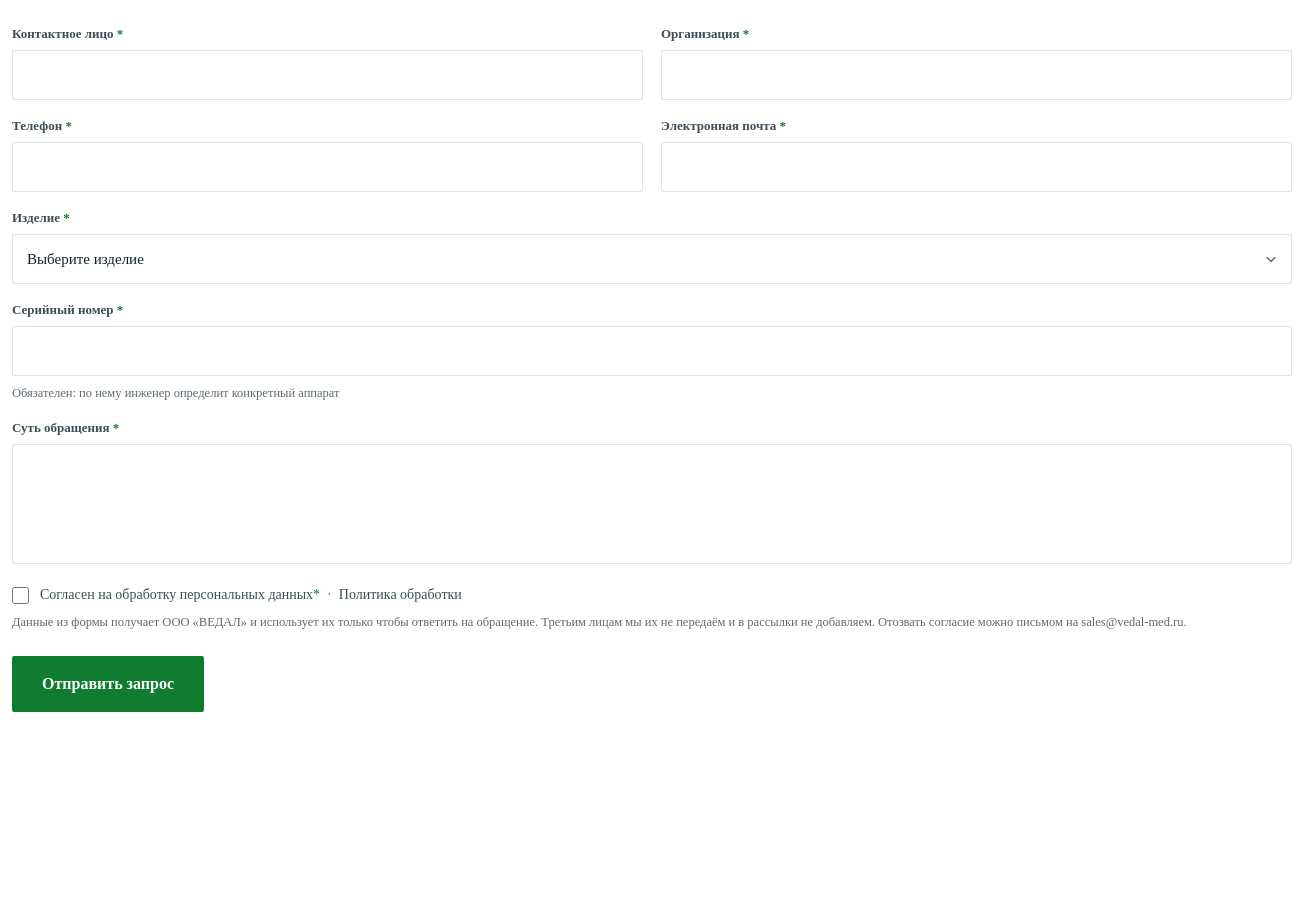
Test case: изделие в сервисном обращении › без выбранного изделия обращение не отправляется
Type "Ольга Кузнецова" into the field labelled "Контактное лицо *" at (328, 75), box [12,50,643,100]
Type "Роддом №2" into the field labelled "Организация *" at (976, 75), box [661,50,1292,100]
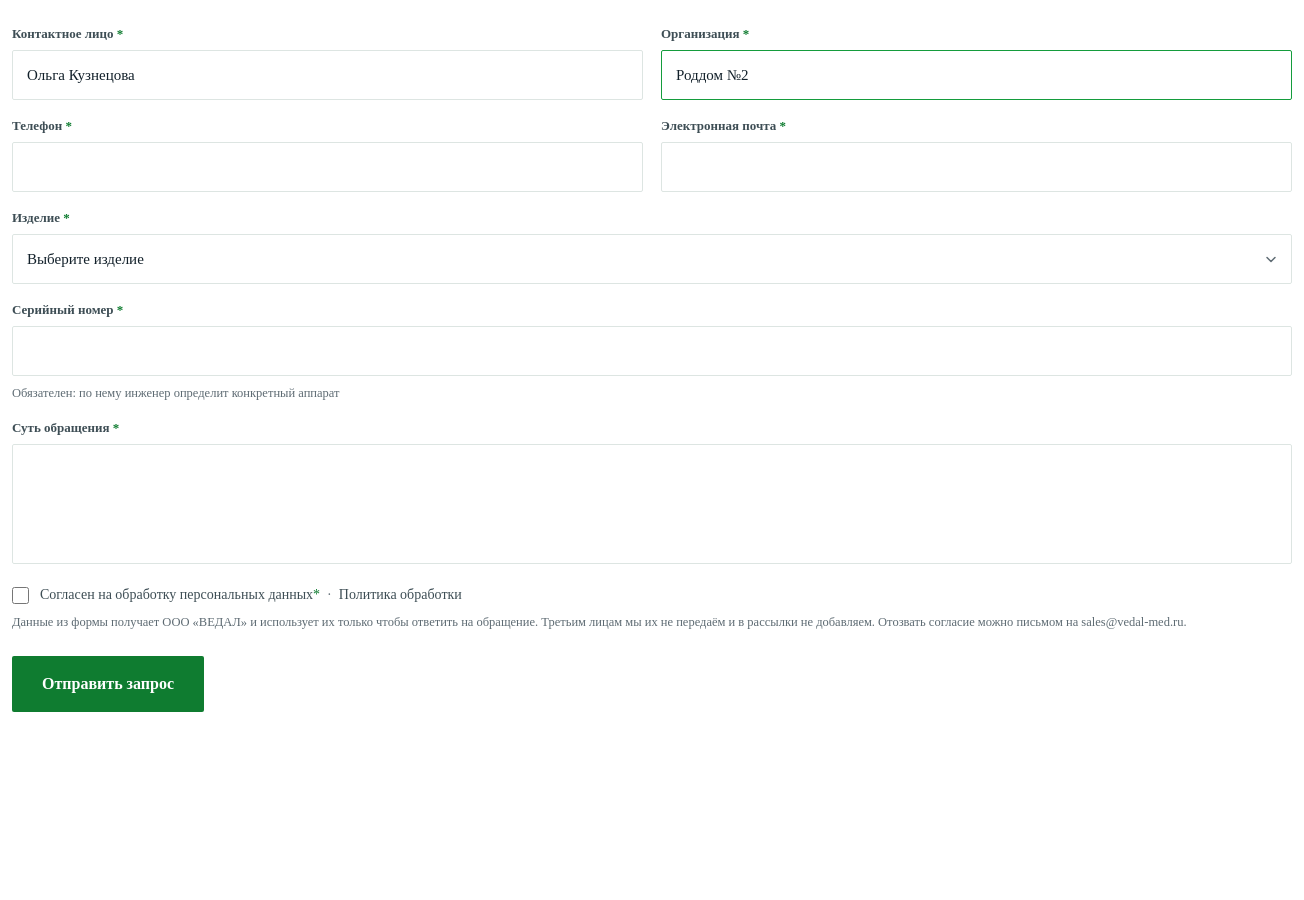
Type "+7 343 200 10 10" into the field labelled "Телефон *" at (328, 167), box [12,142,643,192]
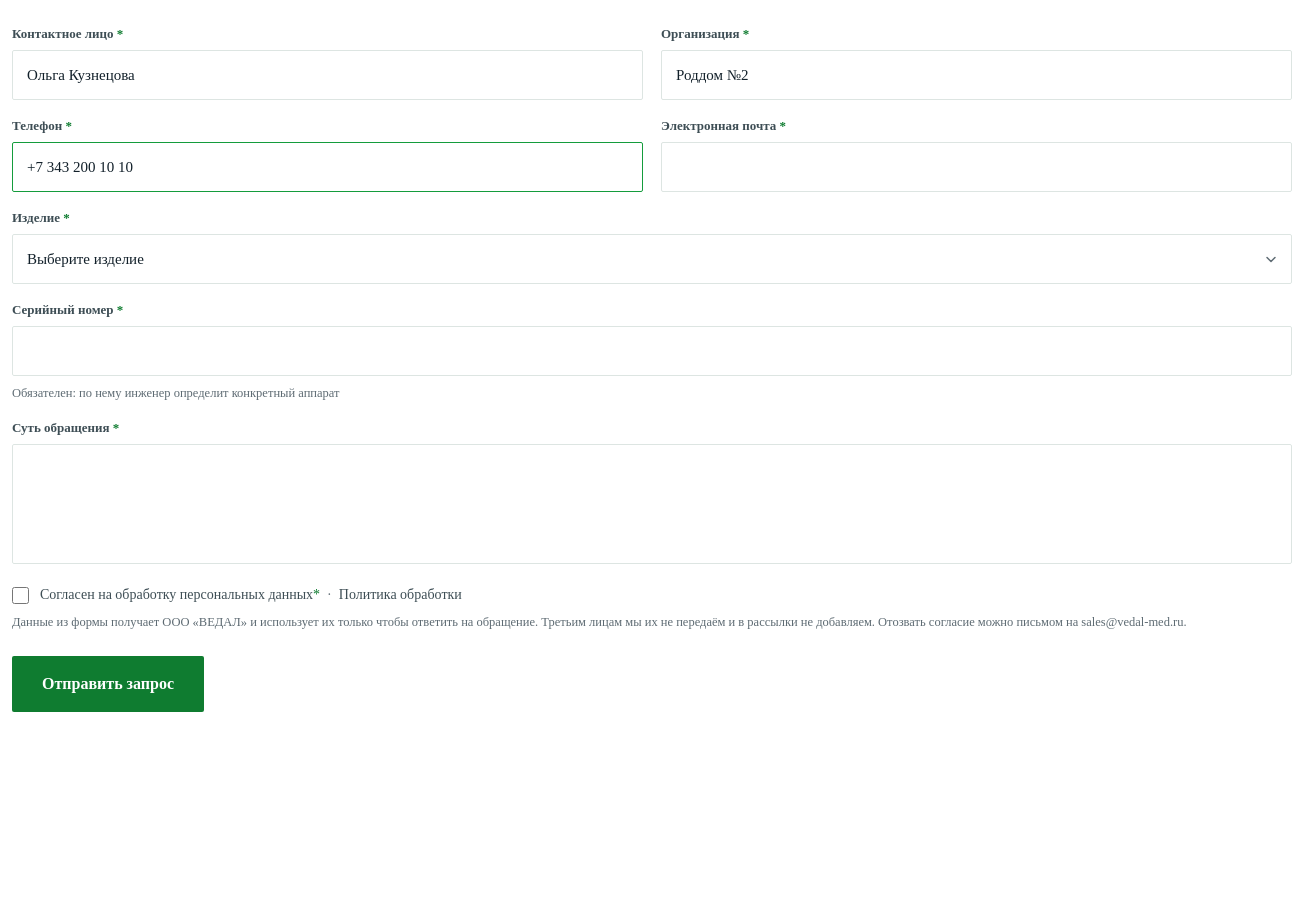
Type "olga@rd2.ru" into the field labelled "Электронная почта *" at (976, 167), box [661,142,1292,192]
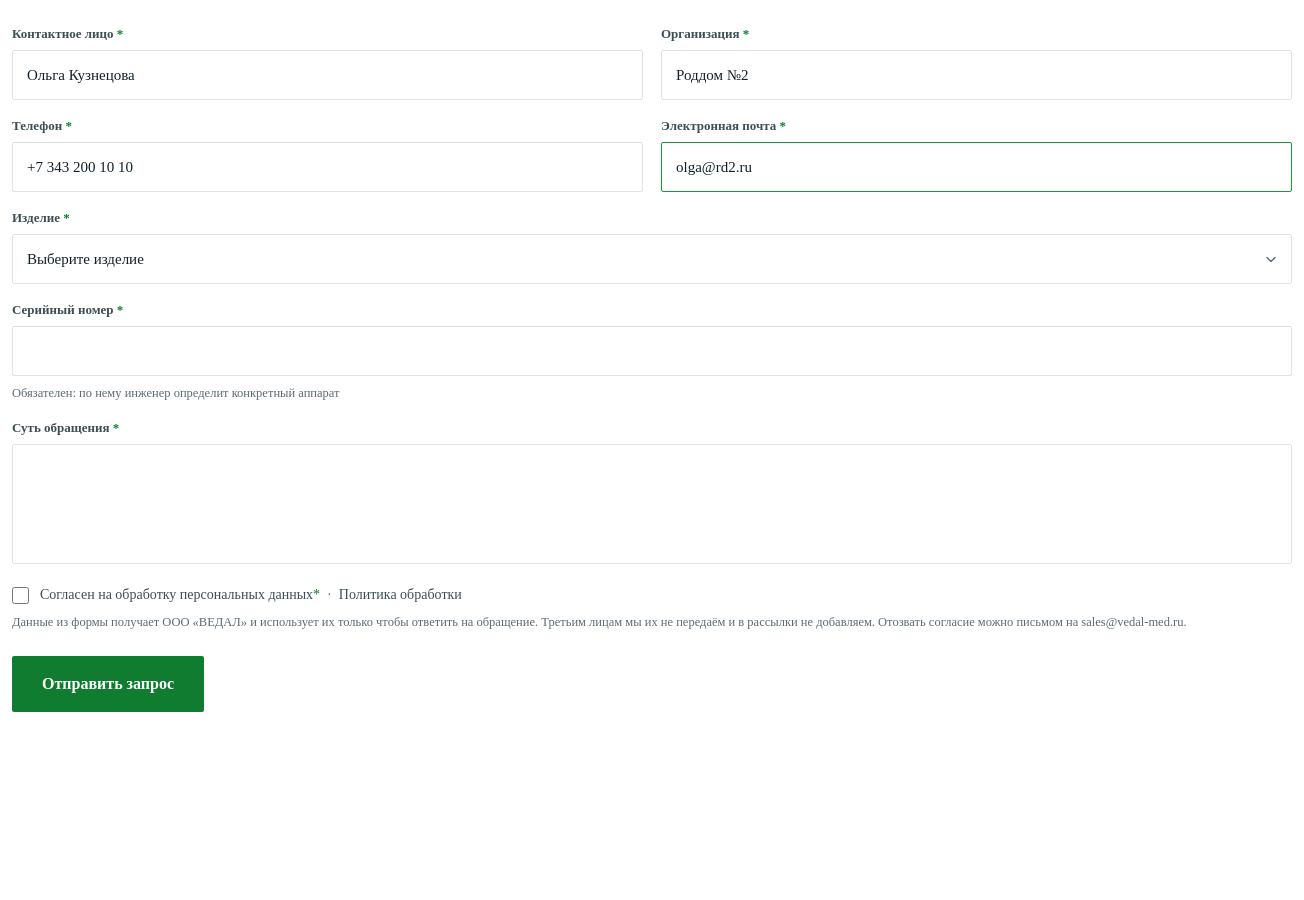
Type "Аппарат не выходит на режим после включения." into the text box labelled "Суть обращения *" at (652, 504), box [12,444,1292,564]
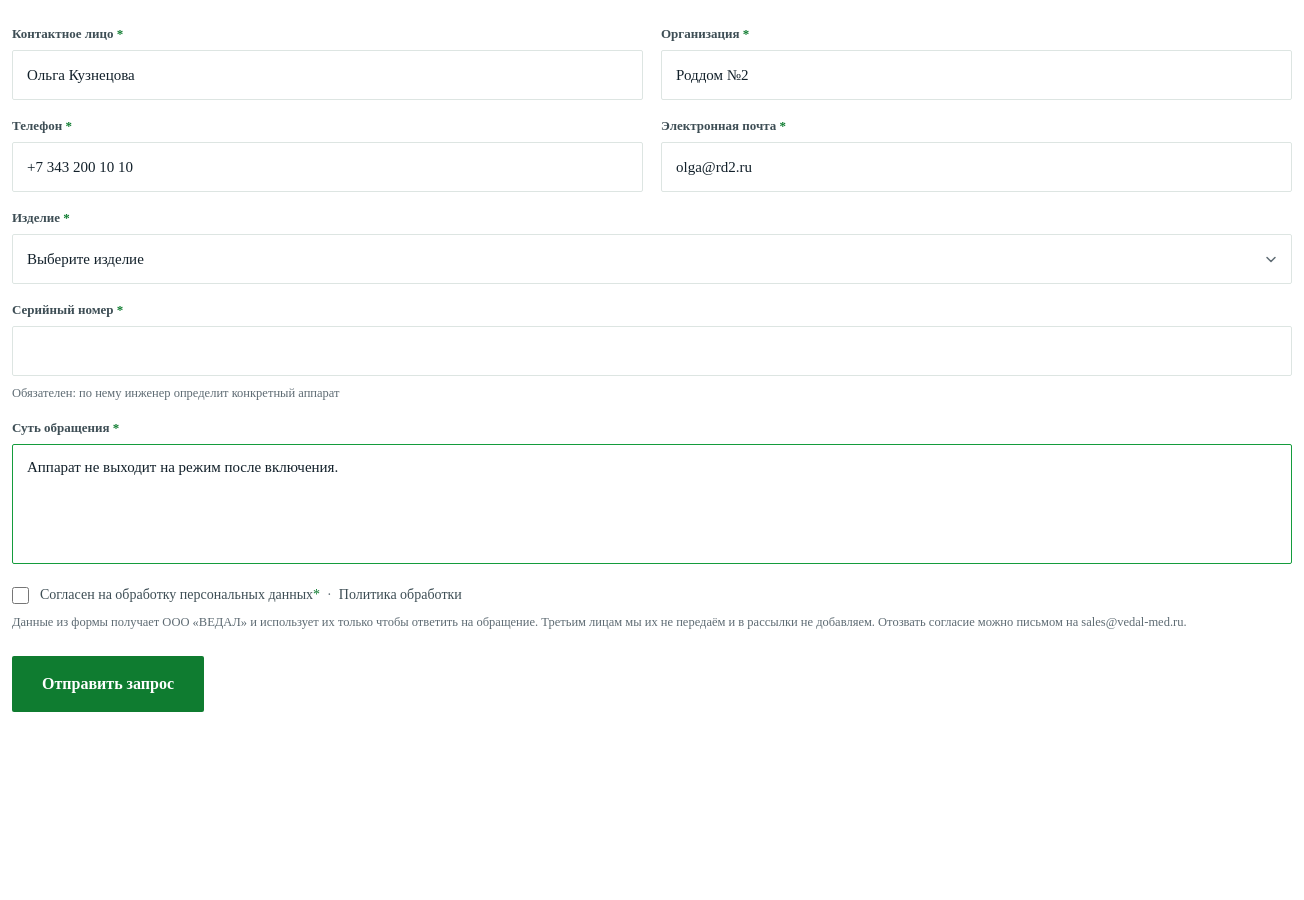
Click the checkbox at (20, 596), box [12,587,29,604]
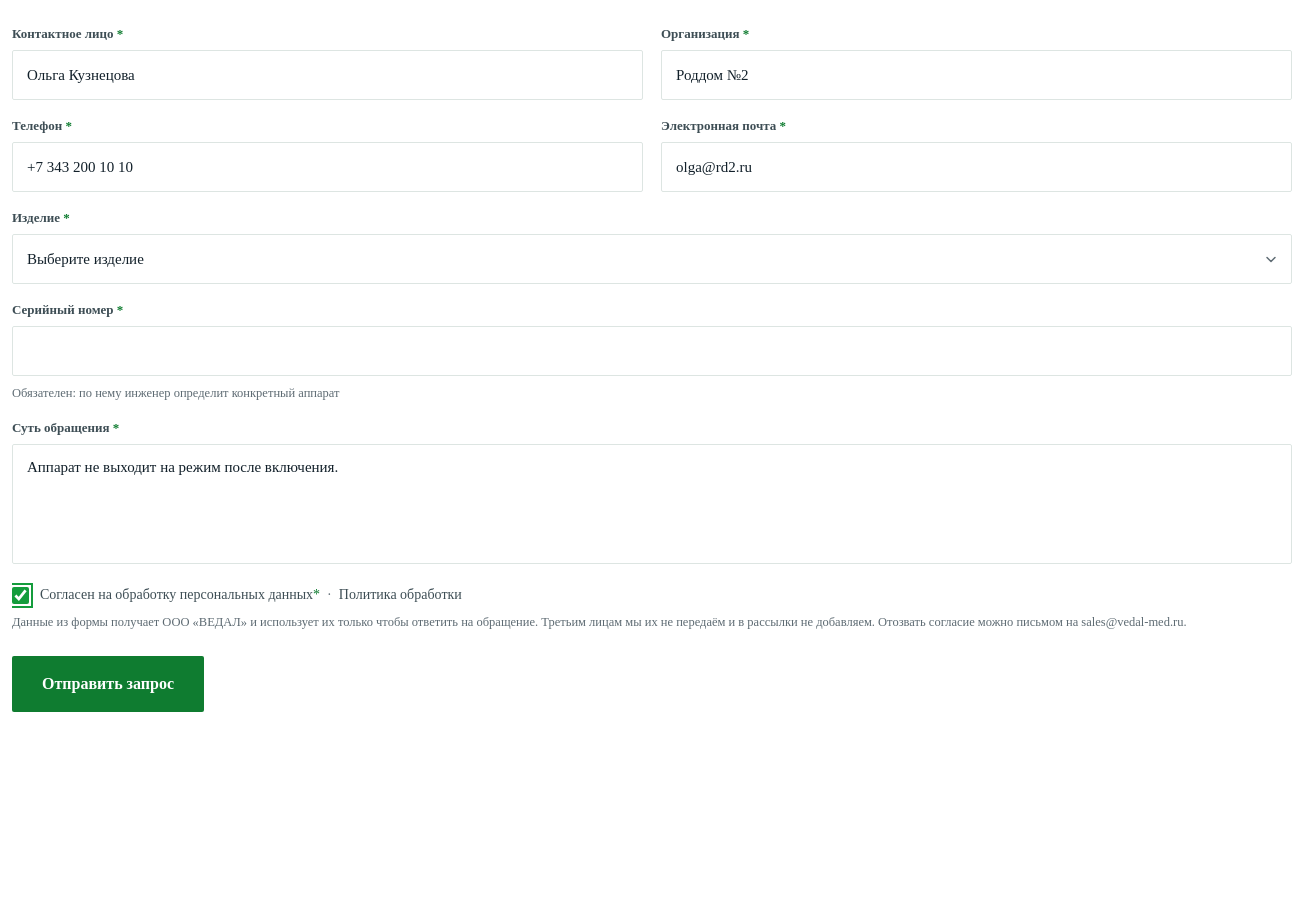
Type "R2-2026-00417" into the field labelled "Серийный номер *" at (652, 351), box [12,326,1292,376]
Click the button "Отправить запрос" at (108, 684), box [12,656,204,712]
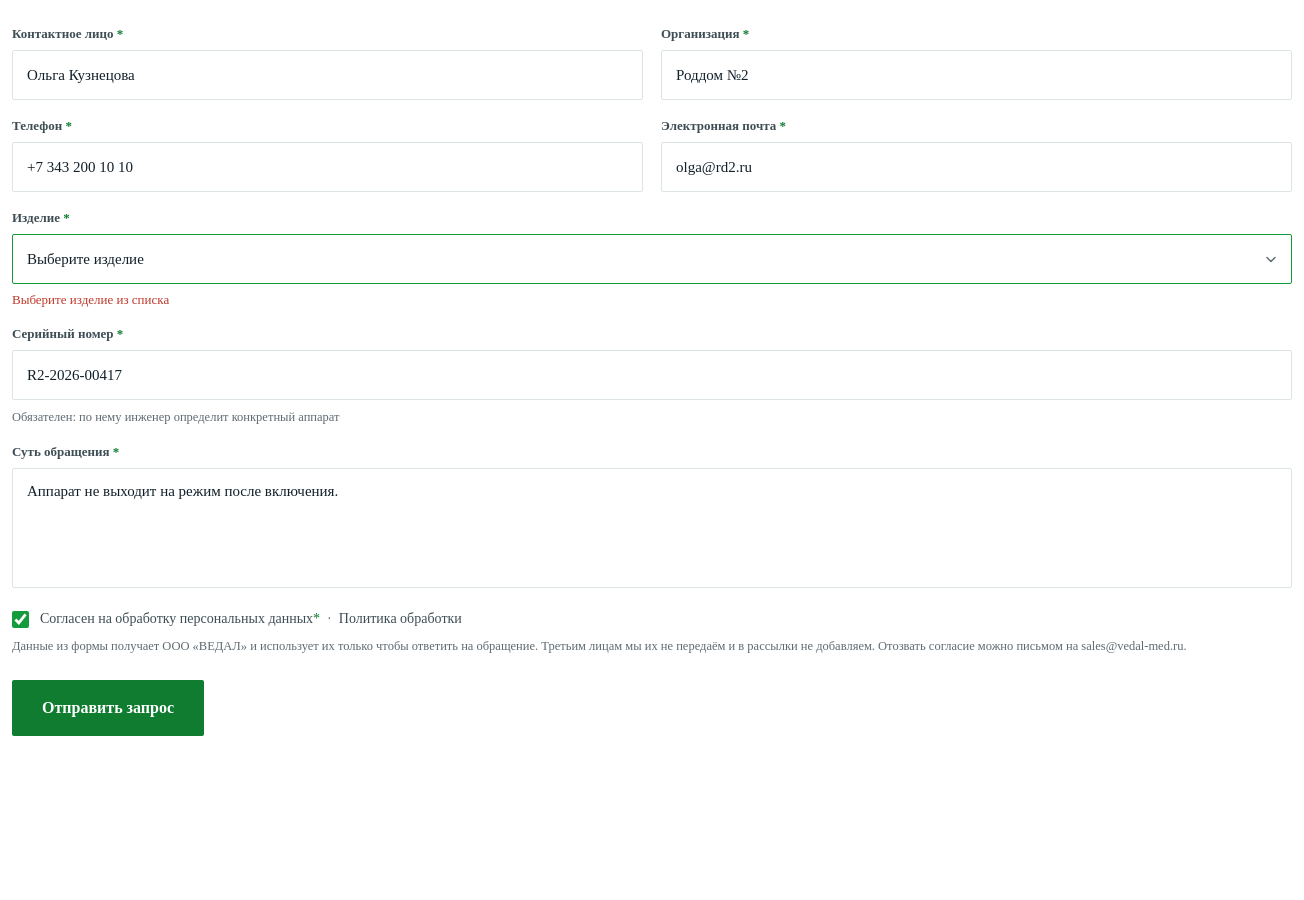
expect the text "Выберите изделие из списка" is shown: met, box [12,292,169,307]
